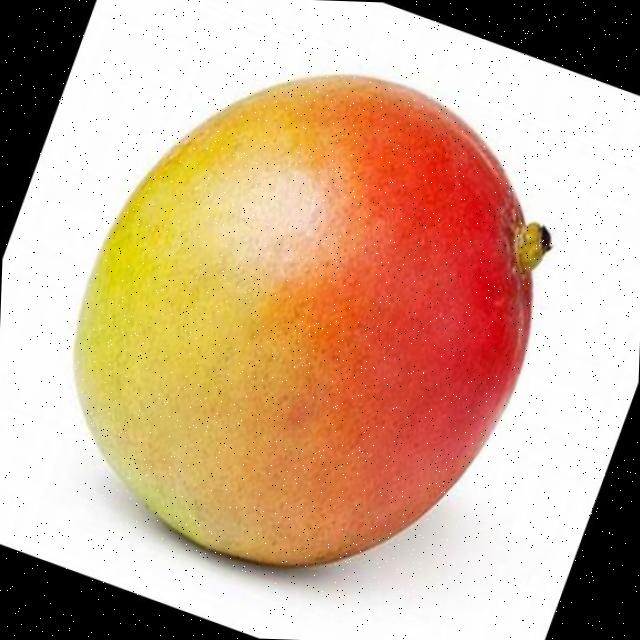mango: (74, 75, 551, 567)
